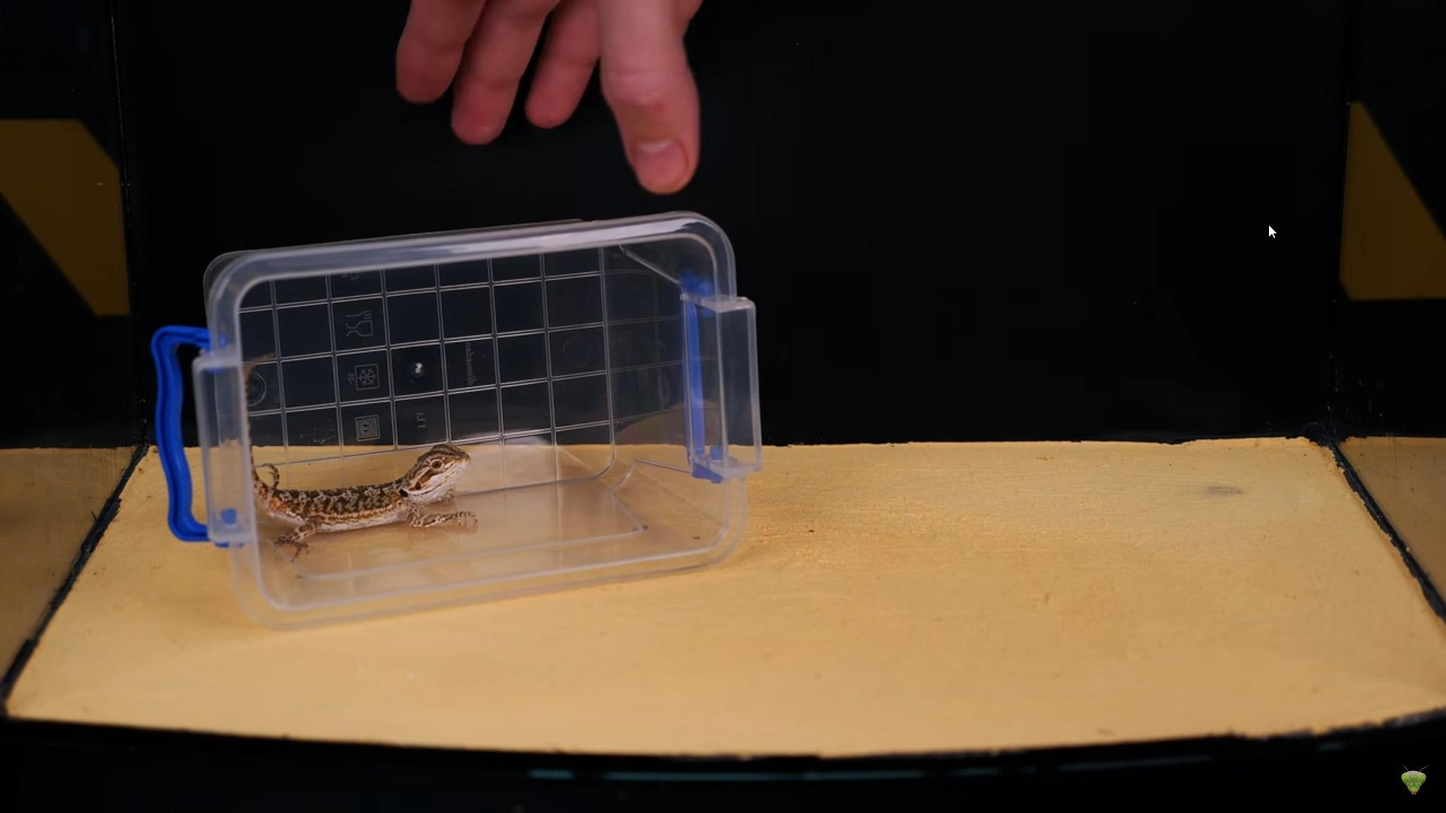lizard: (252, 434, 479, 557)
